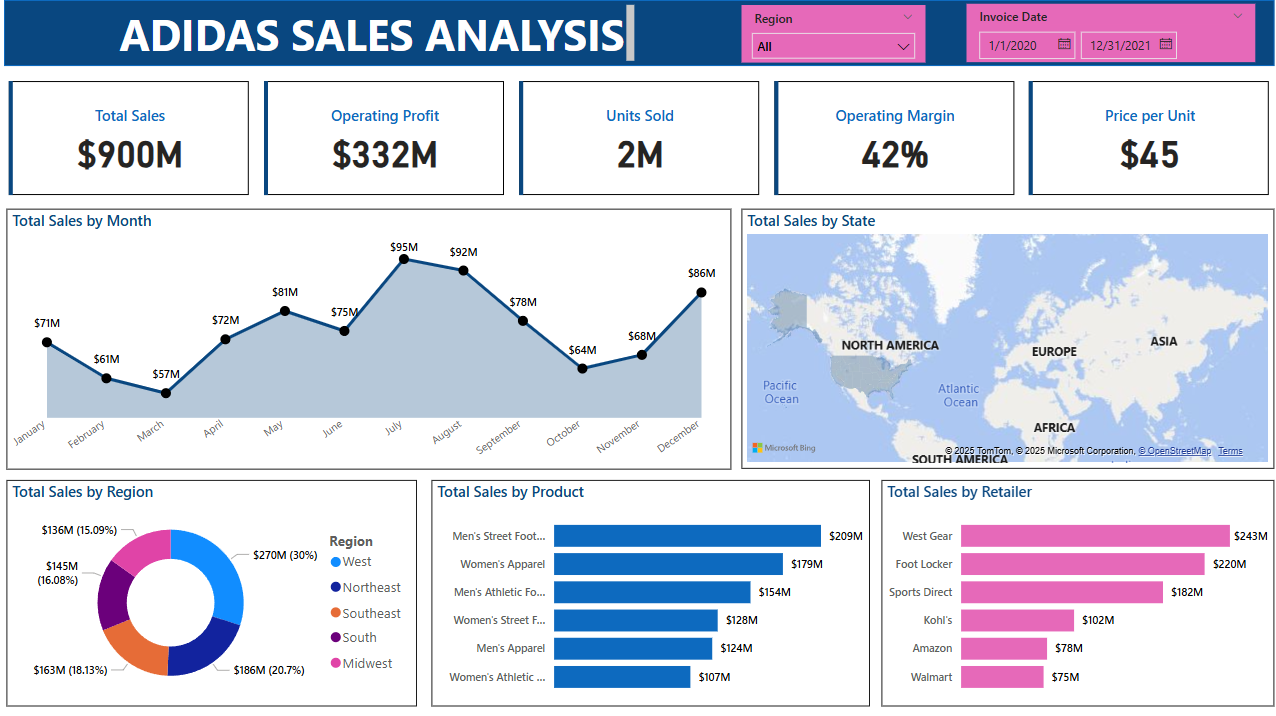

This screenshot's page, from the dashboard's own definition file:
{"tool":"powerbi","page":{"name":"Page 1","canvas":[1280,720],"ordinal":0},"visuals":[{"type":"shape","box":[4.9,0,1270.5,66],"z":0},{"type":"textbox","box":[113.8,0,526.2,66.2],"z":1000},{"type":"cardVisual","fields":{"Data":["Sum(Data Sales Adidas.Total Sales)","Sum(Data Sales Adidas.Operating Profit)","Sum(Data Sales Adidas.Units Sold)","Avg(Data Sales Adidas.Operating Margin)","Avg(Data Sales Adidas.Price per Unit)"]},"box":[4.9,75.8,1270.5,124.7],"z":2000},{"type":"areaChart","title":"Total Sales by Month","fields":{"Y":["Sum(Data Sales Adidas.Total Sales)"],"Category":["Data Sales Adidas.Invoice Date.Variation.Date Hierarchy.Month"]},"box":[7.3,209.1,725.1,260.5],"z":3000},{"type":"filledMap","title":"Total Sales by State","fields":{"Category":["Data Sales Adidas.State"],"X":["Sum(Data Sales Adidas.Total Sales)"]},"box":[742.5,208.8,532.5,260],"z":4000},{"type":"donutChart","title":"Total Sales by Region","fields":{"Y":["Sum(Data Sales Adidas.Total Sales)"],"Category":["Data Sales Adidas.Region"]},"box":[7.5,480,410,226.2],"z":5000},{"type":"barChart","title":"Total Sales by Product","fields":{"Y":["Sum(Data Sales Adidas.Total Sales)"],"Category":["Data Sales Adidas.Product"]},"box":[432.5,480,438.8,226.2],"z":6000},{"type":"barChart","title":"Total Sales by Retailer","fields":{"Y":["Sum(Data Sales Adidas.Total Sales)"],"Category":["Data Sales Adidas.Retailer"]},"box":[882.5,480,392.5,226.2],"z":7000},{"type":"slicer","fields":{"Values":["Data Sales Adidas.Region"]},"box":[742.5,5,183.8,57.5],"z":8000},{"type":"slicer","fields":{"Values":["Data Sales Adidas.Invoice Date"]},"box":[967.5,3.8,288.8,58.8],"z":9000}]}

Visuals, with their boxes in screenshot pixels (x1, y1, x2, y2), scaled from the page's 1280x720 canvas onto the 1276x716 screenshot:
shape: [left=5, top=0, right=1271, bottom=66]
textbox: [left=113, top=0, right=638, bottom=66]
cardVisual - Sum(Data Sales Adidas.Total Sales) x Sum(Data Sales Adidas.Operating Profit): [left=5, top=75, right=1271, bottom=199]
"Total Sales by Month" areaChart: [left=7, top=208, right=730, bottom=467]
"Total Sales by State" filledMap: [left=740, top=208, right=1271, bottom=466]
"Total Sales by Region" donutChart: [left=7, top=477, right=416, bottom=702]
"Total Sales by Product" barChart: [left=431, top=477, right=869, bottom=702]
"Total Sales by Retailer" barChart: [left=880, top=477, right=1271, bottom=702]
slicer - Data Sales Adidas.Region: [left=740, top=5, right=923, bottom=62]
slicer - Data Sales Adidas.Invoice Date: [left=964, top=4, right=1252, bottom=62]
